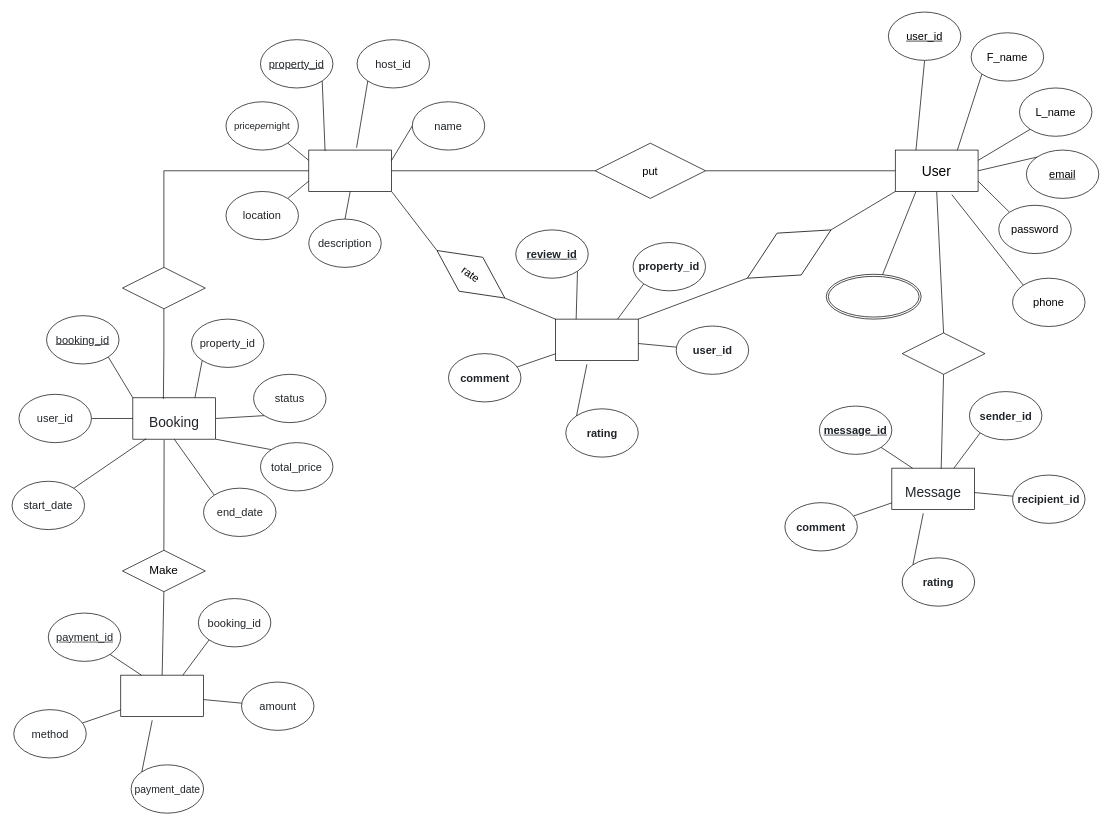
The diagram is 1111 pixels wide and 825 high, and some of its shapes have lost their labels. The centre of each missing label's shape, as x and y in pixels:
Payment: the point at 162,695
Property: the point at 350,170
reserve: the point at 163,288
Review: the point at 596,339
role: the point at 873,296
send: the point at 943,353
Write: the point at 788,253
